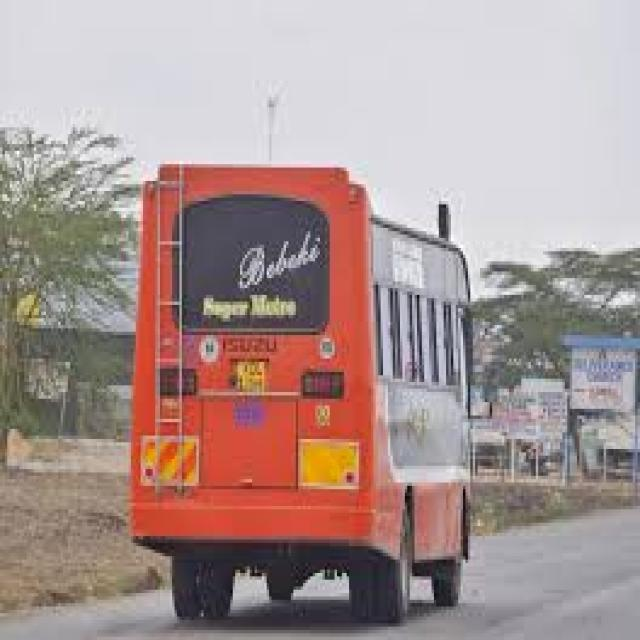bus: (104, 94, 506, 618)
